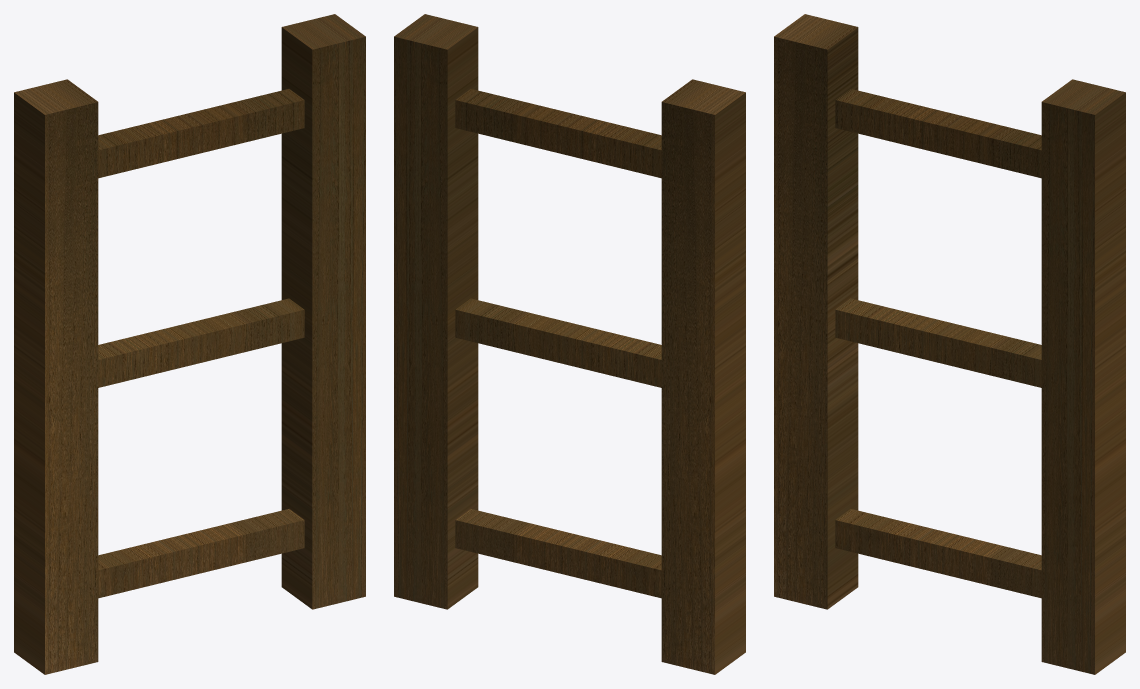
File: Tool_Ladder.fbx
3 renders of one model, left to right at view 1: azimuth 30°, elevation 25°; view 2: azimuth 150°, elevation 25°; view 3: azimuth 330°, elevation 25°, orthographic.
Parts seen in each view (by area): view 1: pCube4; view 2: pCube4; view 3: pCube4.
Part boxes in pixels (bbox=[...]): pCube4: bbox=[14, 14, 365, 674]; pCube4: bbox=[394, 14, 745, 674]; pCube4: bbox=[774, 14, 1125, 674].
Bounding box in the file's own units: 24 × 40 × 4.
1 material, 1 textured.
